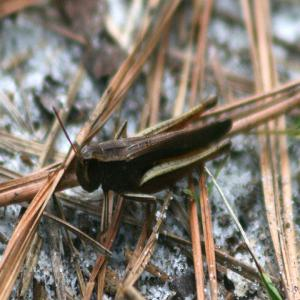locust: (37, 110, 239, 204)
